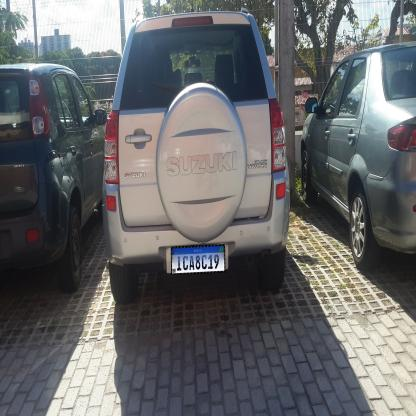PlacaM: (171, 244, 225, 275)
